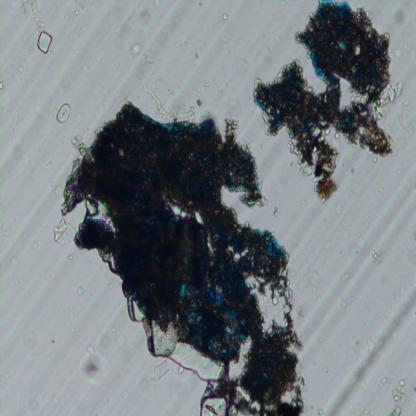Background material: (324, 283, 416, 415), (192, 321, 306, 416), (296, 148, 347, 210), (142, 81, 196, 124), (80, 339, 105, 384), (380, 74, 404, 119), (132, 43, 158, 64), (198, 76, 225, 96), (54, 221, 73, 249), (154, 357, 172, 384), (308, 259, 322, 288), (18, 0, 43, 16), (54, 104, 72, 126), (23, 328, 37, 350), (409, 232, 416, 270), (319, 237, 334, 254), (236, 58, 251, 73), (394, 7, 405, 27), (2, 220, 13, 239), (370, 249, 382, 264), (142, 10, 152, 24), (296, 304, 306, 318), (9, 278, 20, 288), (75, 285, 85, 296), (152, 0, 162, 10), (316, 406, 326, 416), (393, 49, 403, 59), (221, 11, 230, 21), (273, 206, 280, 217), (342, 272, 349, 280), (74, 6, 79, 17), (19, 64, 25, 72), (197, 99, 202, 108), (411, 51, 416, 59), (194, 53, 199, 61), (198, 1, 203, 7), (0, 82, 3, 90), (70, 255, 74, 260)
Fragment: (69, 108, 289, 357), (253, 0, 377, 162)
